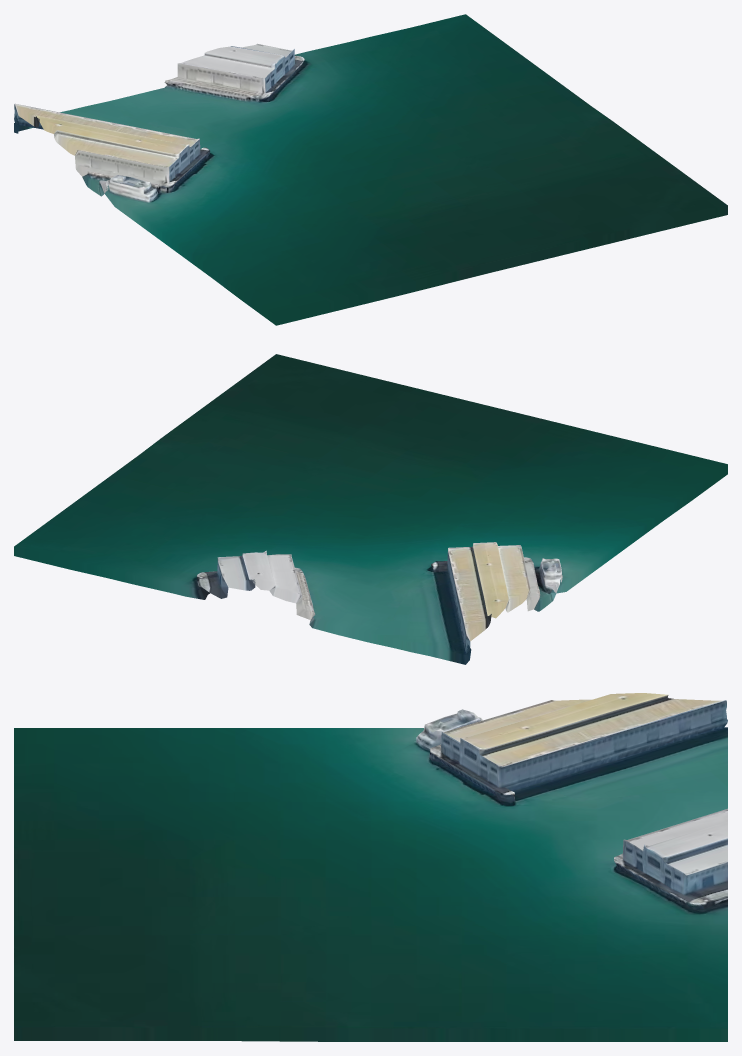
The model's file is z17-20972-50648-h0-yup-uvflip-v3-world.glb.
3 renders of one model, top to bottom at view 1: azimuth 30°, elevation 25°; view 2: azimuth 150°, elevation 25°; view 3: azimuth 270°, elevation 25°, orthographic. The views are drawn at different scales.
Bounding box in the file's own units: 241 × 18.88 × 243.
Materials: 1 (1 with a texture image).
